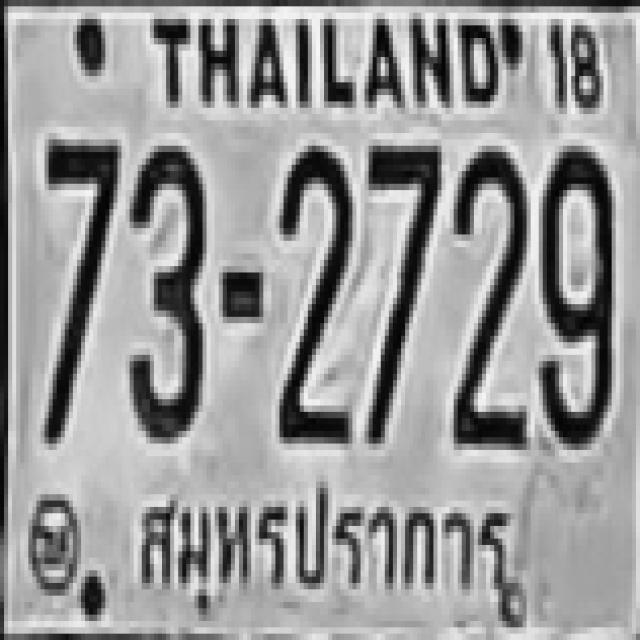2: (450, 142, 522, 446), (276, 142, 348, 440)
3: (125, 140, 202, 438)
7: (42, 133, 120, 437), (364, 140, 438, 438), (364, 140, 438, 368), (44, 133, 118, 361), (44, 133, 118, 336)
9: (534, 140, 612, 443)
SamutPrakan: (131, 476, 523, 616)
